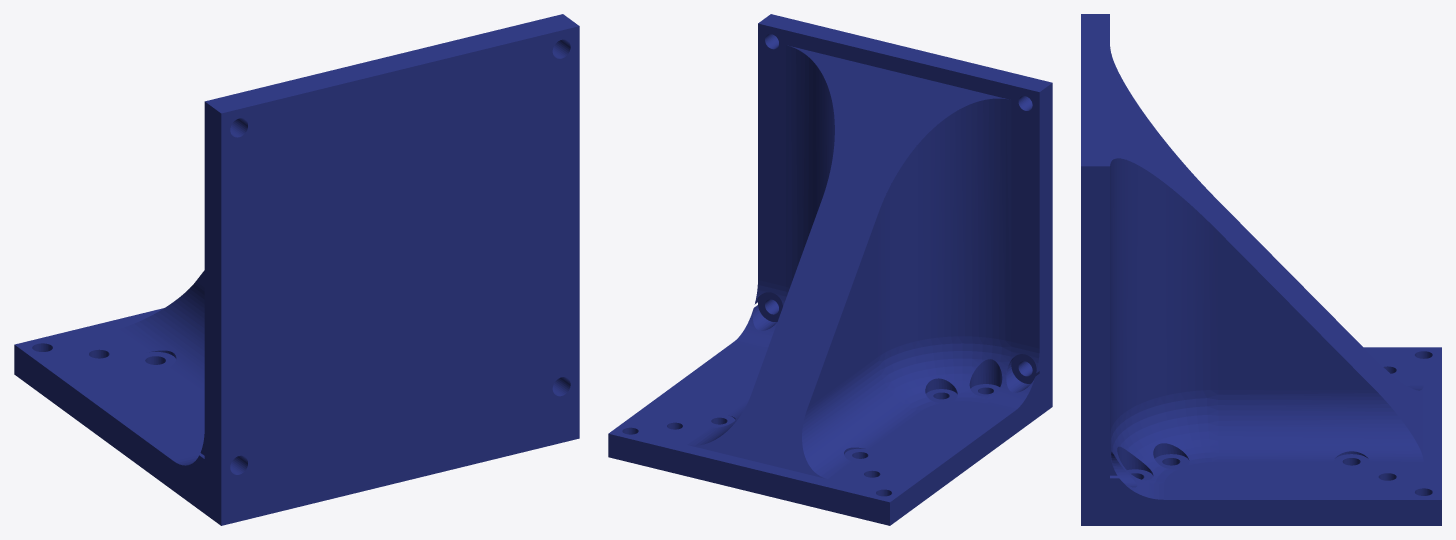
The model's file is l_bracket.dae.
The picture shows the model from 3 angles, left to right: view 1: azimuth 30°, elevation 25°; view 2: azimuth 150°, elevation 25°; view 3: azimuth 270°, elevation 25°; orthographic projection. The views are drawn at different scales.
Visible parts, largest first — view 1: ID2; view 2: ID2; view 3: ID2.
Part boxes in pixels (<box>): ID2: <box>14,14,579,525</box>; ID2: <box>608,14,1052,525</box>; ID2: <box>1081,14,1441,525</box>.
Size of the model in its own units: 0.05 by 0.05 by 0.055.
